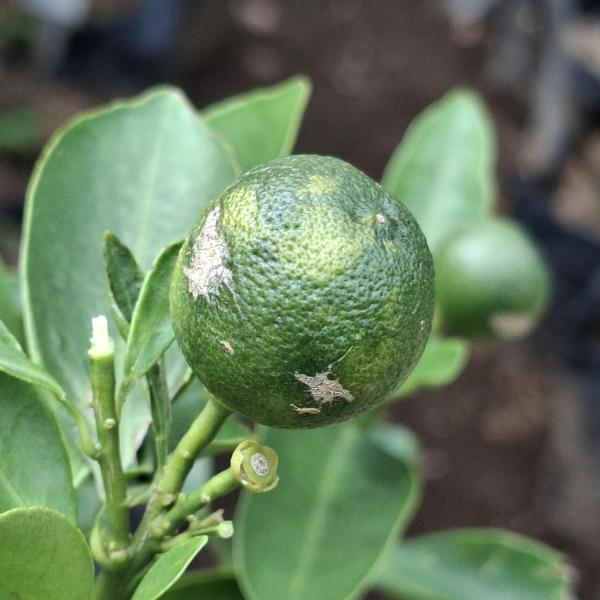Scab: (160, 145, 447, 447)
